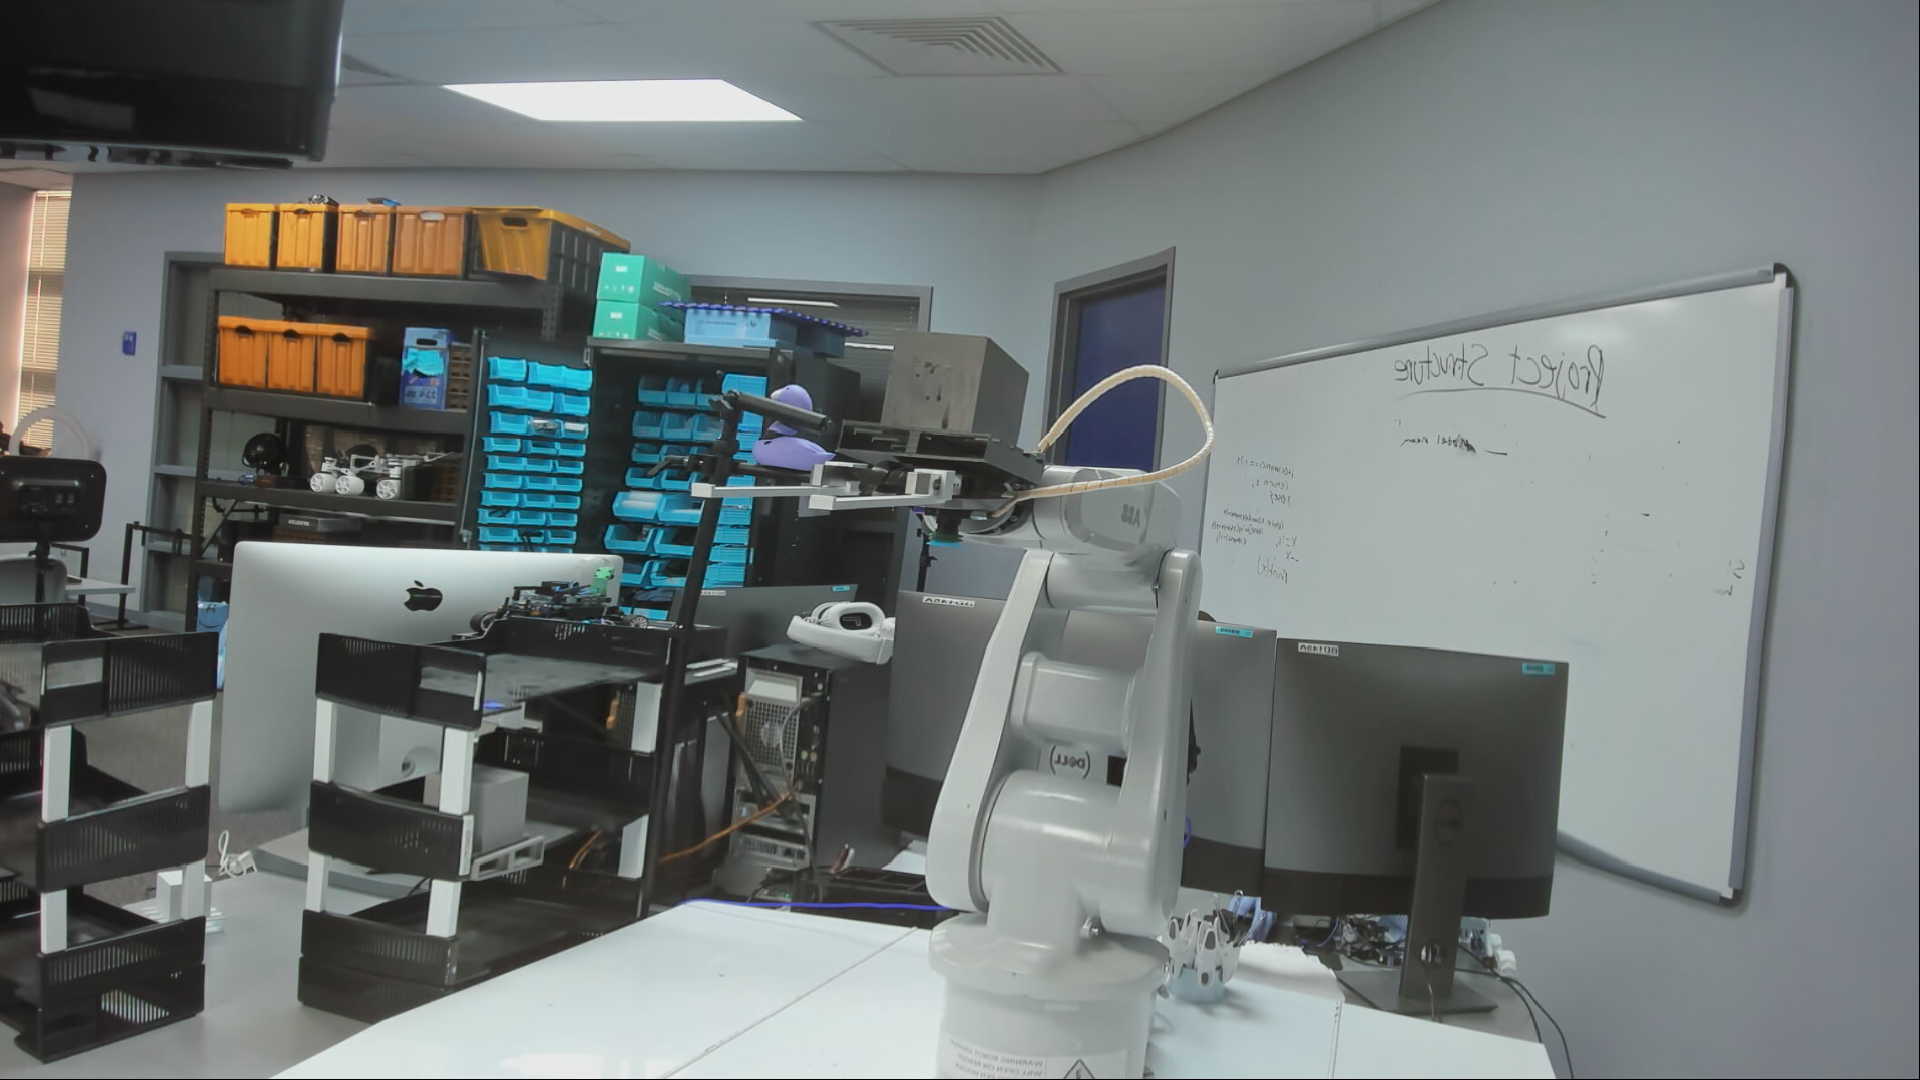black pallet: (847, 335, 1029, 468)
